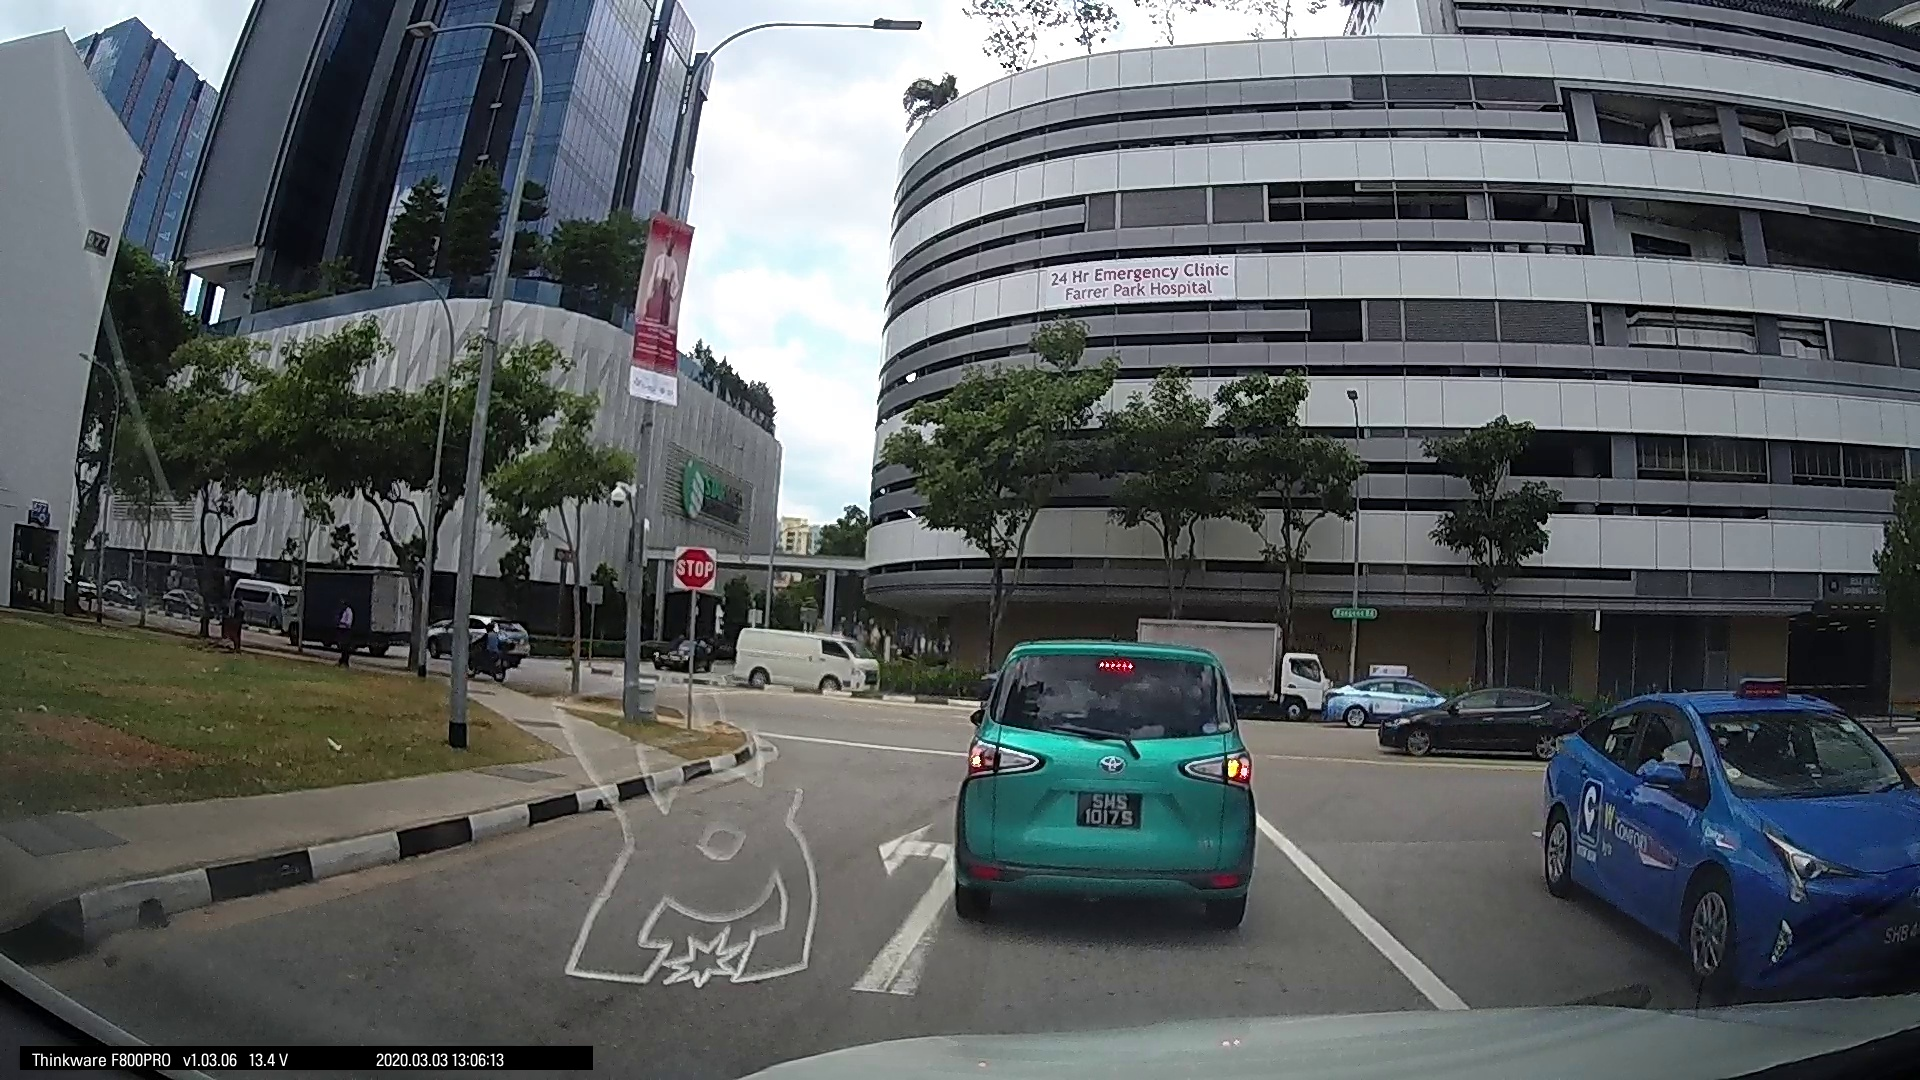Light Vehicle: (1528, 682, 1909, 992), (947, 620, 1259, 931), (1379, 674, 1575, 757), (720, 621, 876, 695), (1325, 663, 1433, 721)
